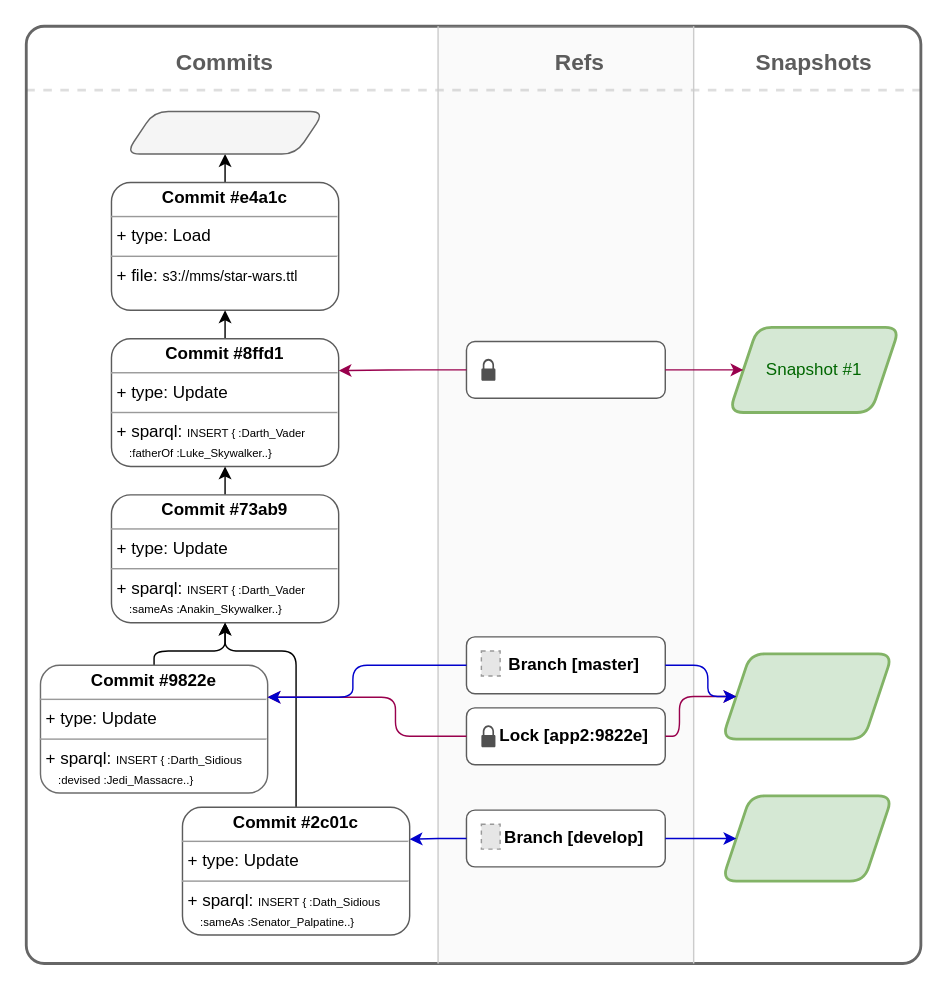
This 946x990 diagram has some shape labels left out. Grey dashed boxes stand in for pictures. Here are the shapes that lost their labels. From the top down, the centre of each, then its label:
pixel 224 132: rdf:nil
pixel 565 369: Lock [app1:8fdd1]
pixel 806 696: Snapshot #2
pixel 806 838: Snapshot #3
